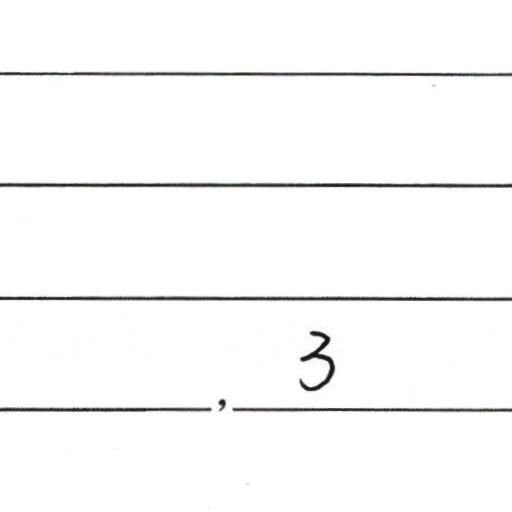ans: (294, 324, 339, 394)
